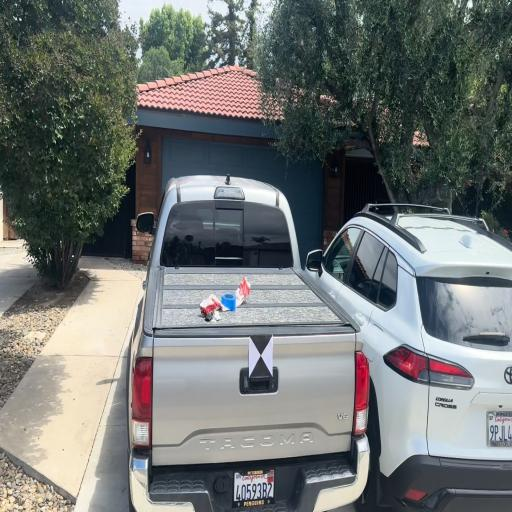target: (249, 335, 274, 377)
